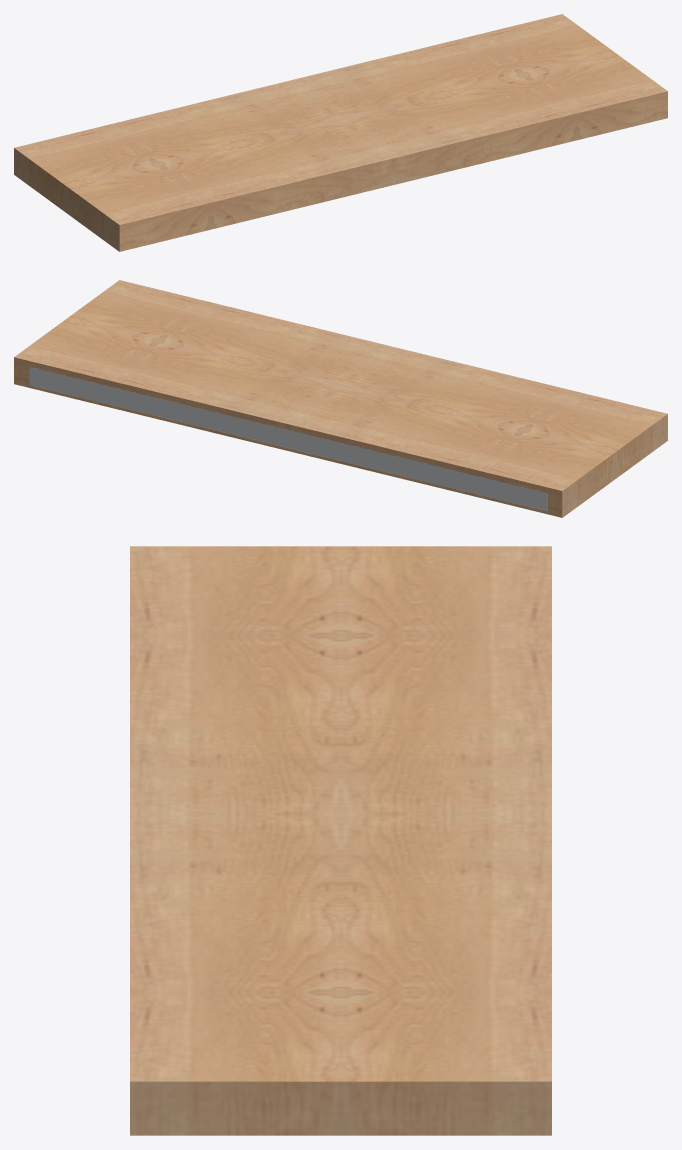
The model's file is shelf-wood-hovr.glb.
3 views of the same model, one above another, from view 1: azimuth 30°, elevation 25°; view 2: azimuth 150°, elevation 25°; view 3: azimuth 270°, elevation 25° (orthographic). The views are drawn at different scales.
Parts seen in each view (by area): view 1: shelf-wood-hovr; view 2: shelf-wood-hovr; view 3: shelf-wood-hovr.
Boxes of the visible parts, x1,y1,x2,y2 form: shelf-wood-hovr: [14, 14, 667, 251]; shelf-wood-hovr: [14, 280, 667, 517]; shelf-wood-hovr: [130, 546, 551, 1135].
Bounding box in the file's own units: 0.9144 × 0.0429 × 0.3048.
Materials: 2 (1 with a texture image).
